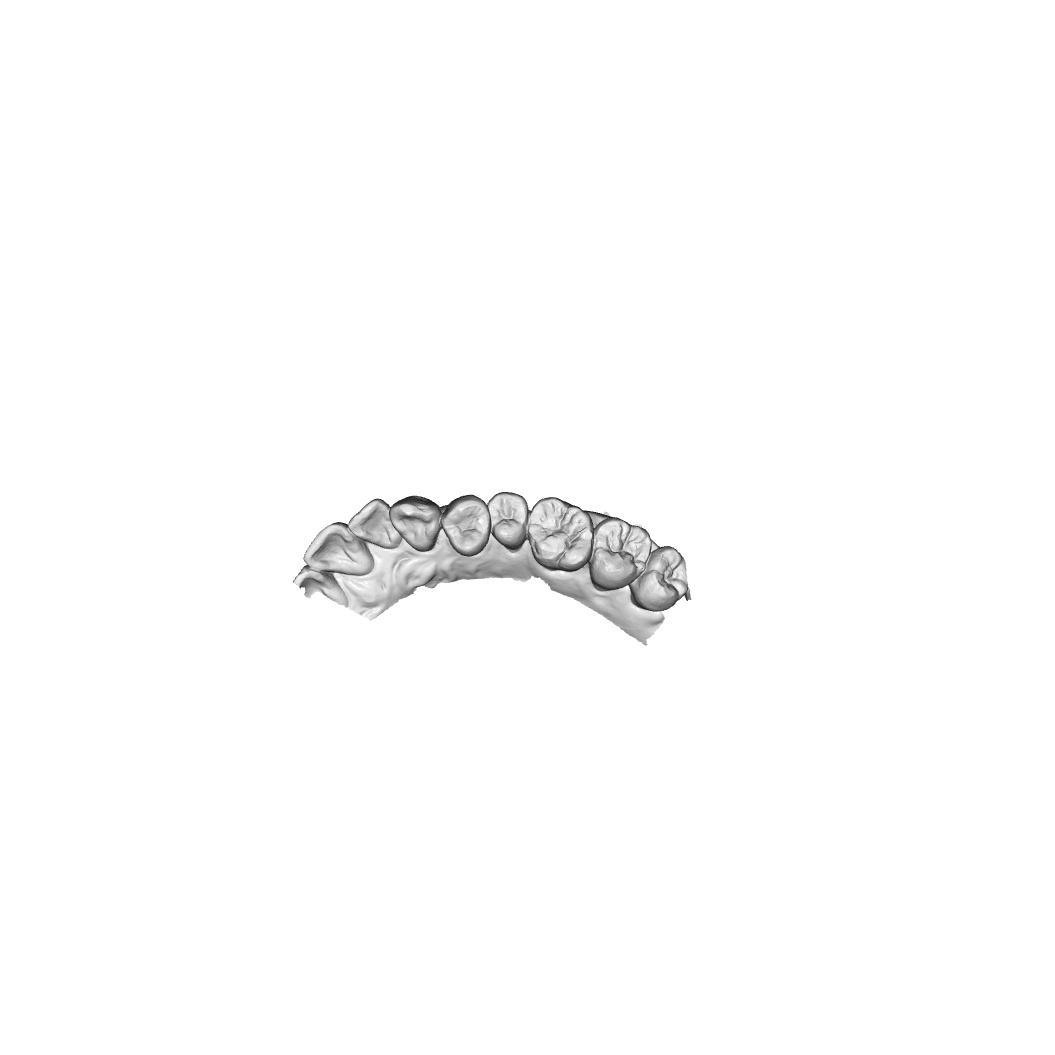canine: (387, 494, 443, 553)
incisor: (302, 521, 375, 578), (346, 497, 403, 550)
molar: (526, 496, 594, 573), (588, 516, 653, 592), (630, 544, 688, 612)
premolar: (440, 493, 492, 557), (487, 491, 529, 551)
